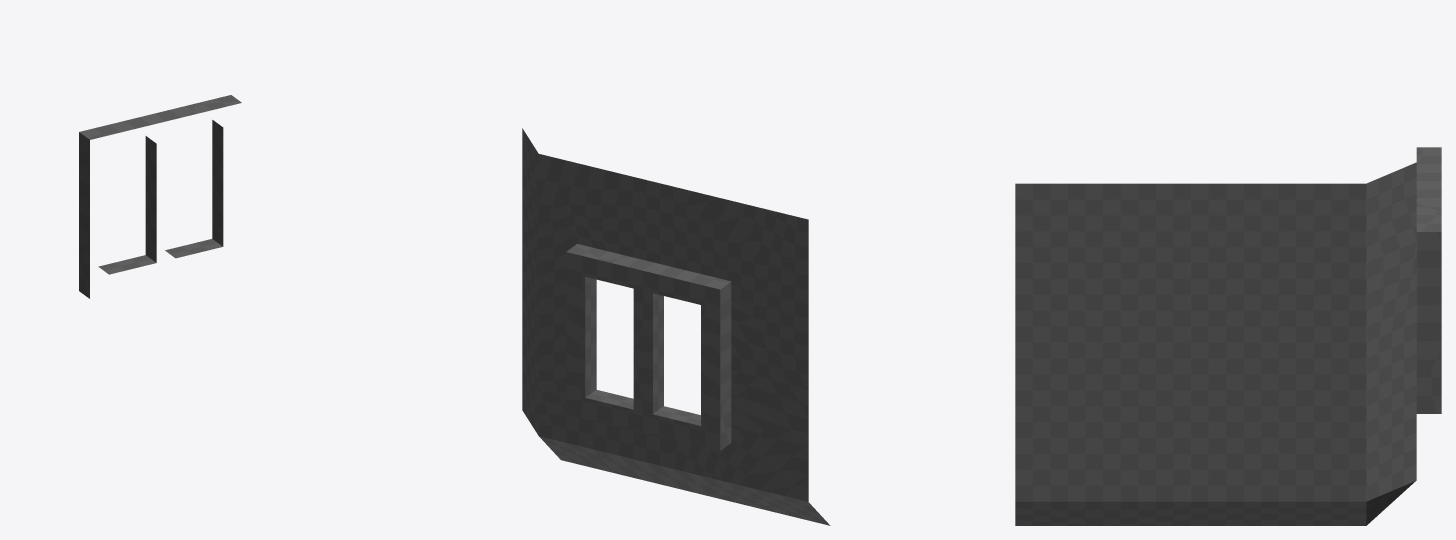
The picture shows the model from 3 angles, left to right: view 1: azimuth 30°, elevation 25°; view 2: azimuth 150°, elevation 25°; view 3: azimuth 270°, elevation 25°; orthographic projection. The views are drawn at different scales.
Parts seen in each view (by area): view 1: 1; view 2: 1; view 3: 1.
Boxes of the visible parts, left/top/right/bottom form: 1: left=79, top=95, right=241, bottom=298; 1: left=522, top=128, right=830, bottom=525; 1: left=1015, top=147, right=1441, bottom=525.
Bounding box in the file's own units: 2 × 2 × 2.12.
Materials: 2 (2 with a texture image).
